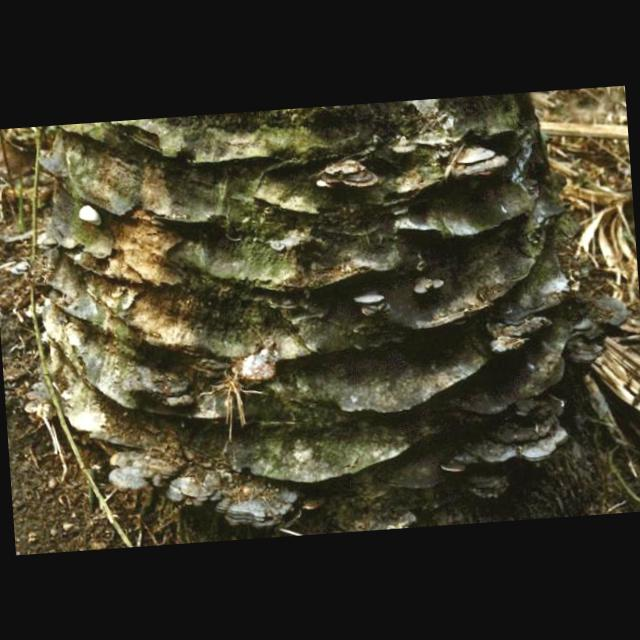ganoderma: (437, 393, 573, 476), (214, 477, 304, 534), (564, 296, 633, 367), (108, 448, 187, 496), (164, 464, 238, 513), (486, 310, 558, 356), (443, 144, 513, 181), (230, 340, 283, 385), (315, 159, 381, 192)
primordium: (78, 204, 105, 229)
